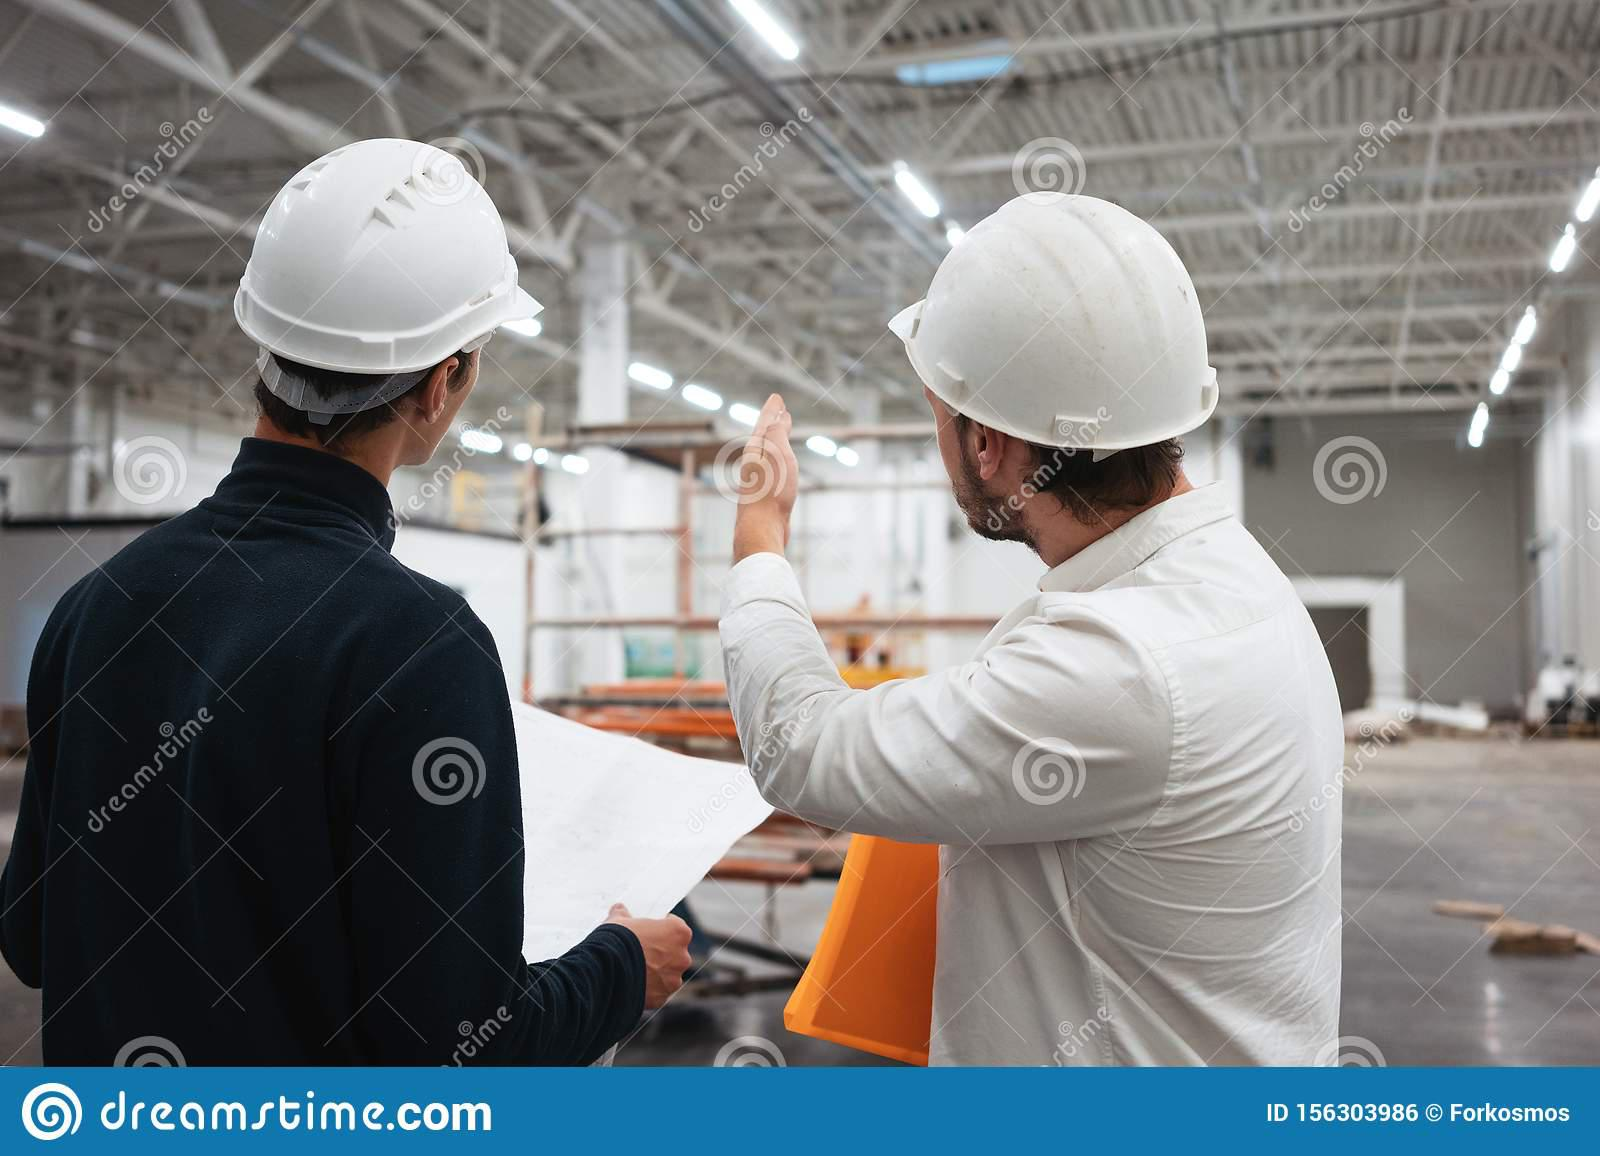hardhat: (888, 190, 1222, 456), (235, 139, 544, 374)
worker: (4, 136, 692, 1068), (715, 182, 1349, 1070)
